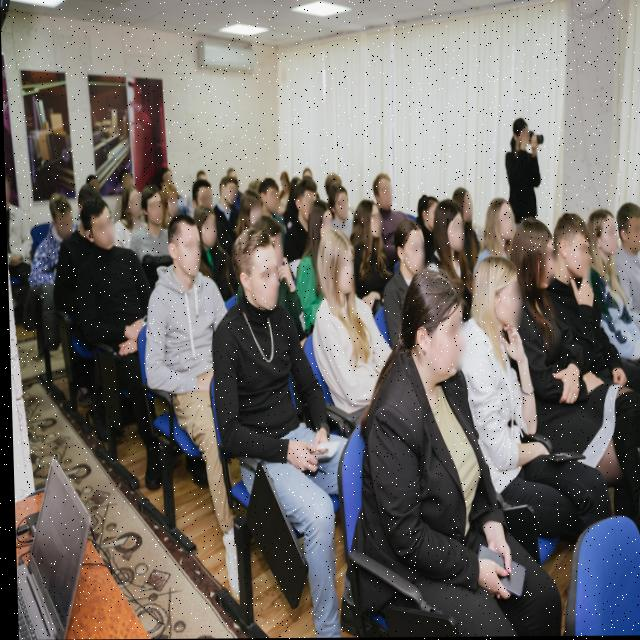Person: (364, 276, 479, 605), (211, 228, 305, 532), (144, 215, 225, 440), (458, 257, 530, 498), (55, 198, 145, 390), (508, 214, 564, 425), (307, 224, 364, 417), (543, 214, 598, 390), (34, 191, 86, 315), (374, 221, 432, 321), (503, 113, 551, 221), (585, 204, 620, 335), (612, 190, 640, 339), (426, 198, 471, 280), (478, 191, 518, 251), (291, 204, 335, 254), (377, 160, 406, 221), (322, 183, 353, 240), (139, 188, 164, 248), (283, 184, 315, 230), (198, 201, 219, 266), (256, 172, 285, 219), (208, 175, 239, 214), (121, 185, 148, 227), (237, 186, 262, 230), (289, 162, 315, 198), (159, 180, 180, 224), (76, 167, 105, 195), (118, 159, 137, 199), (190, 178, 208, 213)
